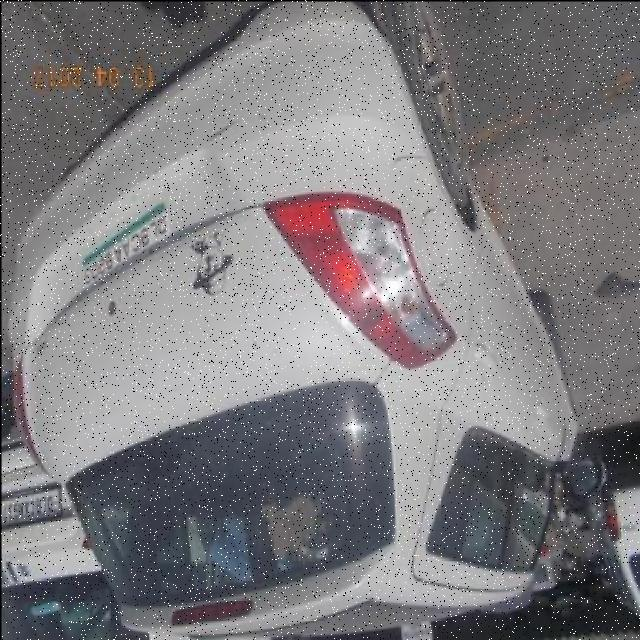damage: (199, 109, 271, 140)
